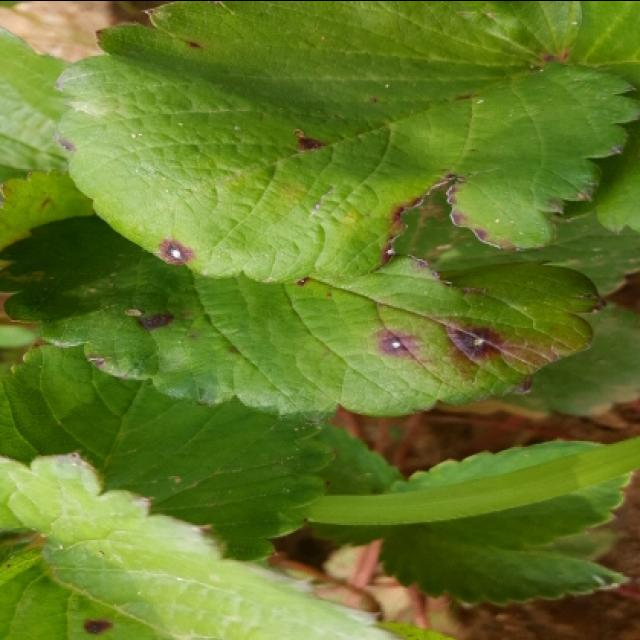Leaf Spot: (52, 2, 638, 285), (0, 211, 604, 421), (0, 446, 405, 640)
